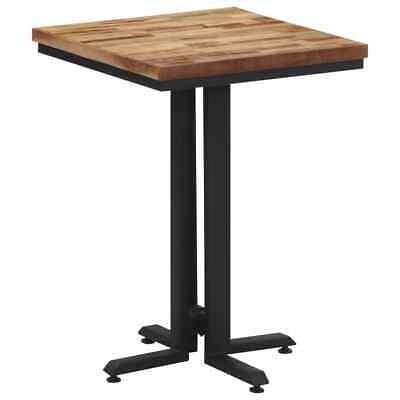Clean Table: (1, 2, 400, 164)
